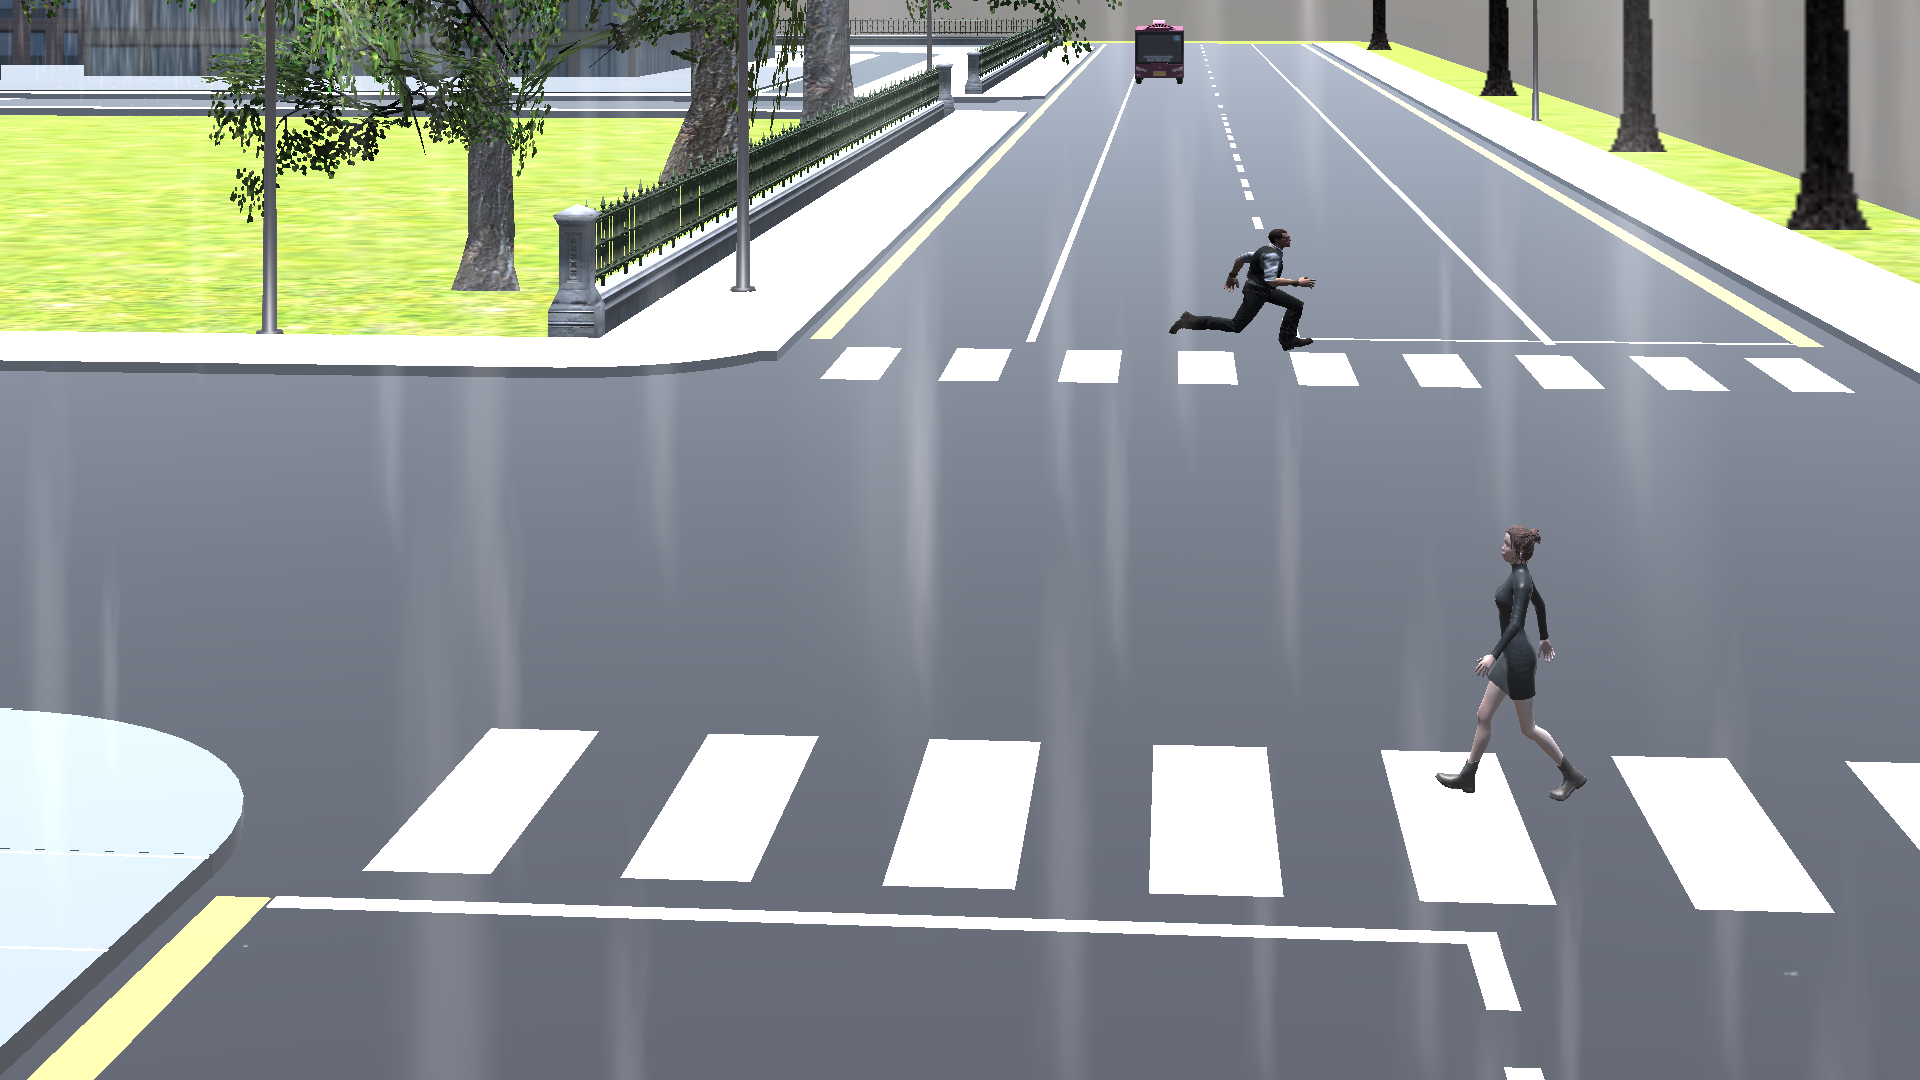pedestrian: (1436, 513, 1597, 808), (1162, 220, 1330, 362)
